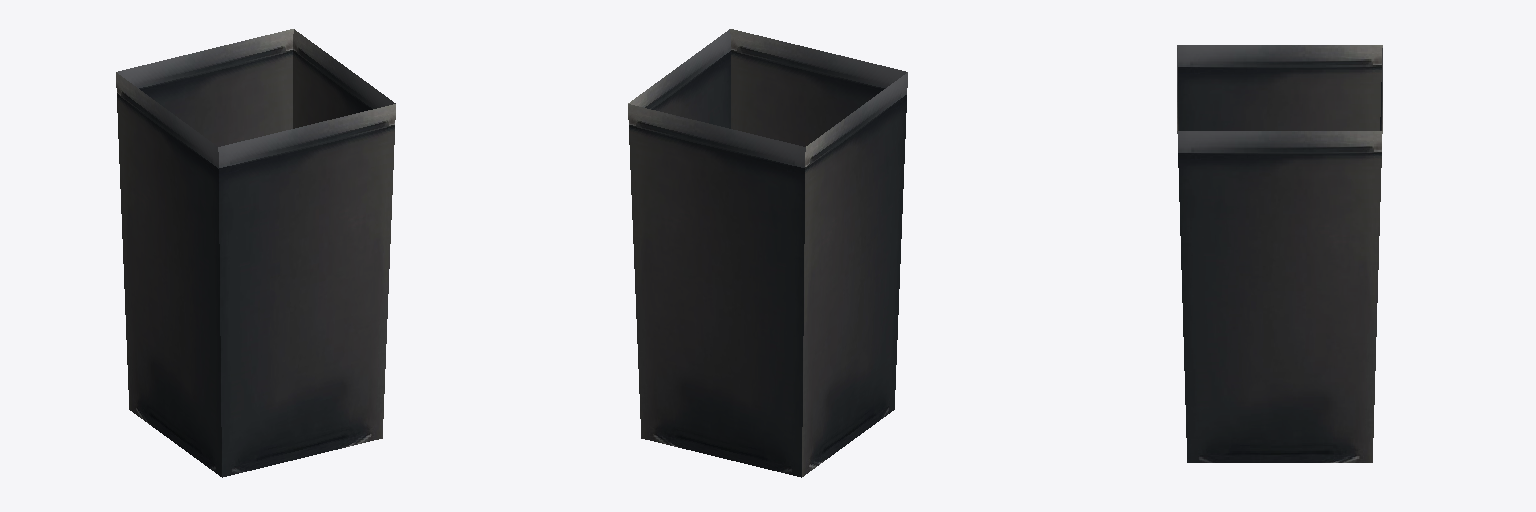
3 renders of one model, left to right at view 1: azimuth 30°, elevation 25°; view 2: azimuth 150°, elevation 25°; view 3: azimuth 270°, elevation 25°, orthographic.
Parts seen in each view (by area): view 1: trashCan_1; view 2: trashCan_1; view 3: trashCan_1.
Part boxes in pixels (left/top/right/bottom): trashCan_1: left=116, top=29, right=395, bottom=477; trashCan_1: left=628, top=29, right=907, bottom=477; trashCan_1: left=1177, top=45, right=1382, bottom=462.
Size of the model in its own units: 0.6636 by 1.2 by 0.6636.
1 materials, 1 textured.